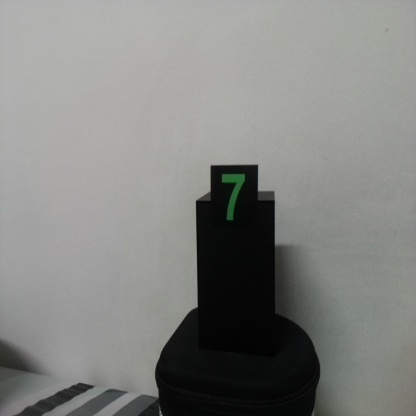id_7: (210, 165, 258, 241)
